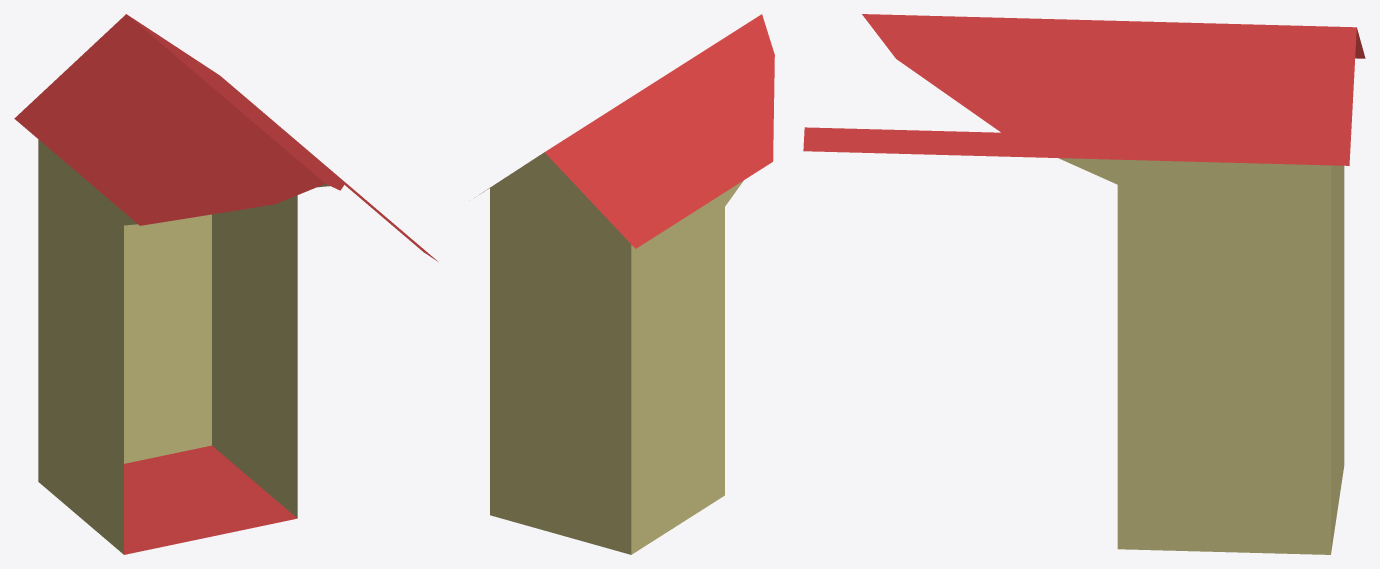
3 renders of one model, left to right at view 1: azimuth 30°, elevation 25°; view 2: azimuth 150°, elevation 25°; view 3: azimuth 270°, elevation 25°, orthographic. The views are drawn at different scales.
Size of the model in its own units: 6.87 by 14.12 by 13.52.
